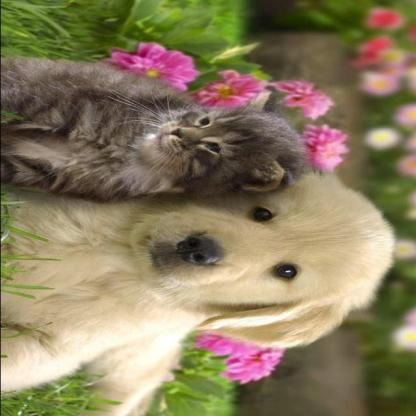cat: (0, 83, 309, 194)
dog: (1, 190, 366, 387)
